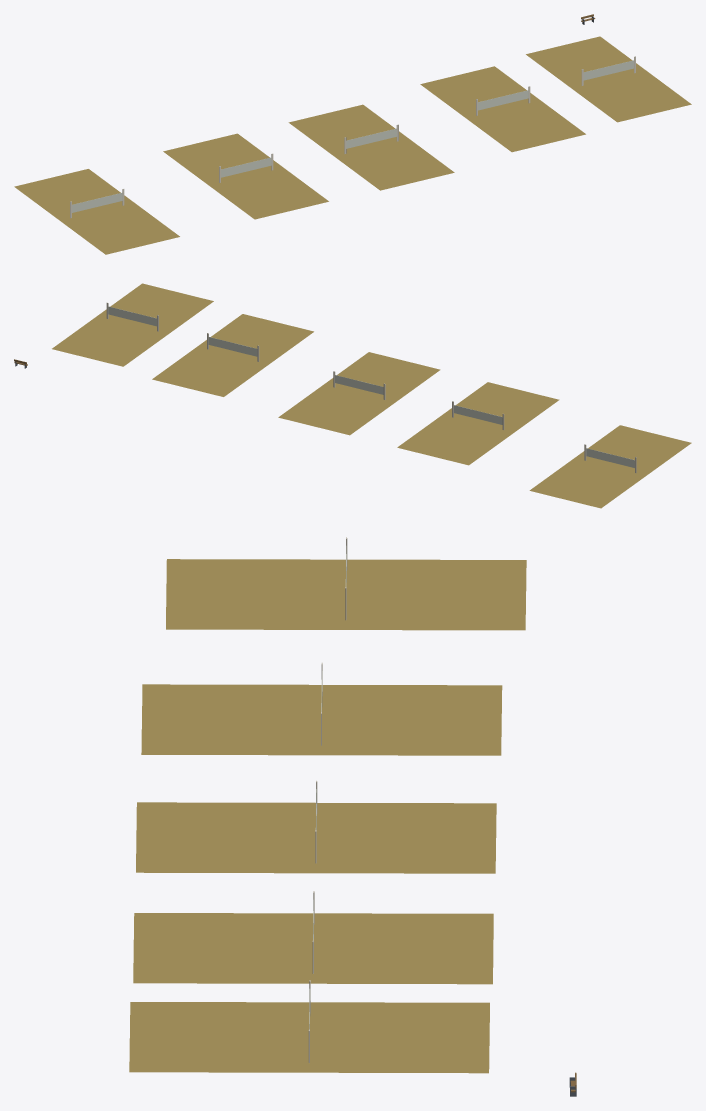
Rendered from cell-315_0.glb.
The picture shows the model from 3 angles, top to bottom: view 1: azimuth 30°, elevation 25°; view 2: azimuth 150°, elevation 25°; view 3: azimuth 270°, elevation 25°; orthographic projection. The views are drawn at different scales.
Visible parts, largest first — view 1: cell-315_0 (×2); view 2: cell-315_0 (×2); view 3: cell-315_0 (×2).
Part boxes in pixels (bbox=[...]): cell-315_0 (×2): bbox=[14, 14, 691, 254]; cell-315_0 (×2): bbox=[14, 283, 691, 508]; cell-315_0 (×2): bbox=[129, 537, 576, 1096].
Size of the model in its own units: 39.59 by 2.17 by 13.32.
